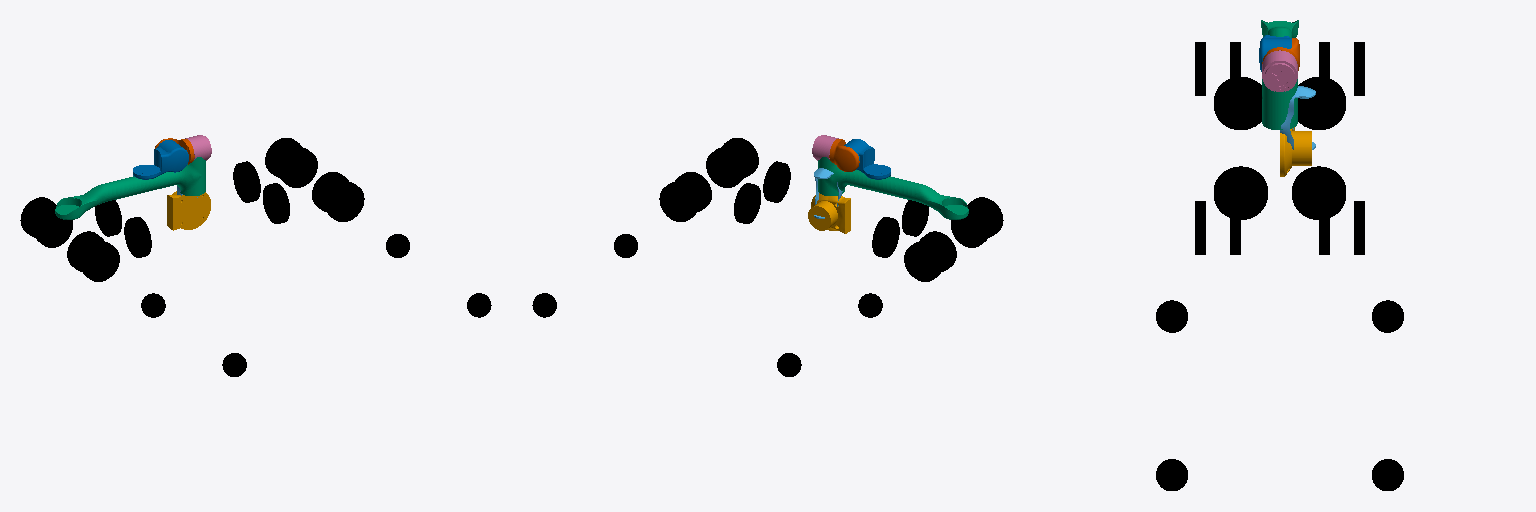
--- What the picture shows (computed from the rendered views, not written in the file) ---
3 views of the same robot in one strip: view 1: azimuth 30°, elevation 25°; view 2: azimuth 150°, elevation 25°; view 3: azimuth 270°, elevation 25° (orthographic).
Model b1z1_description with 39 links and 38 joints (18 revolute, 19 fixed, 1 floating), rooted at world, posed all joints at 0 but 4 set to mid-range because 0 is outside their limits (FR_calf_joint = -1.6, FL_calf_joint = -1.6, RR_calf_joint = -1.6, RL_calf_joint = -1.6).
Links seen in each view (by area): view 1: link02, link00, link04, FR_calf_rotor, FL_thigh_rotor, RR_calf_rotor, RL_thigh_rotor, FL_hip_rotor, RR_hip_rotor, FR_hip_rotor, RL_hip_rotor, RR_thigh_rotor (+3 smaller); view 2: link02, link00, FR_thigh_rotor, FL_calf_rotor, RL_calf_rotor, RR_thigh_rotor, FR_hip_rotor, RL_hip_rotor, FL_hip_rotor, link04, RR_hip_rotor, link05 (+4 smaller); view 3: RR_hip_rotor, FR_hip_rotor, FL_hip_rotor, RL_hip_rotor, link02, link06, link00, RR_foot, RL_foot, FR_foot, FL_foot, FR_thigh_rotor (+6 smaller).
Boxes of the visible links, left/top/right/bottom form: link02: left=55, top=157, right=205, bottom=219; link00: left=167, top=191, right=210, bottom=230; link04: left=133, top=140, right=188, bottom=179; FR_calf_rotor: left=325, top=181, right=364, bottom=221; FL_thigh_rotor: left=278, top=147, right=317, bottom=187; RR_calf_rotor: left=81, top=241, right=119, bottom=281; RL_thigh_rotor: left=34, top=207, right=72, bottom=247; FL_hip_rotor: left=233, top=161, right=260, bottom=202; RR_hip_rotor: left=124, top=217, right=151, bottom=257; FR_hip_rotor: left=263, top=183, right=289, bottom=223; RL_hip_rotor: left=95, top=200, right=121, bottom=236; RR_thigh_rotor: left=67, top=231, right=103, bottom=271; link02: left=818, top=157, right=968, bottom=219; link00: left=808, top=193, right=850, bottom=233; FR_thigh_rotor: left=706, top=147, right=745, bottom=187; FL_calf_rotor: left=659, top=181, right=698, bottom=221; RL_calf_rotor: left=904, top=241, right=942, bottom=281; RR_thigh_rotor: left=951, top=207, right=989, bottom=247; FR_hip_rotor: left=763, top=161, right=790, bottom=202; RL_hip_rotor: left=872, top=217, right=899, bottom=257; FL_hip_rotor: left=734, top=183, right=760, bottom=223; link04: left=844, top=139, right=890, bottom=179; RR_hip_rotor: left=902, top=200, right=928, bottom=236; link05: left=829, top=139, right=859, bottom=171; RR_hip_rotor: left=1214, top=77, right=1261, bottom=129; FR_hip_rotor: left=1214, top=166, right=1267, bottom=219; FL_hip_rotor: left=1292, top=166, right=1345, bottom=219; RL_hip_rotor: left=1298, top=77, right=1345, bottom=129; link02: left=1261, top=20, right=1298, bottom=129; link06: left=1262, top=50, right=1297, bottom=91; link00: left=1280, top=127, right=1311, bottom=176; RR_foot: left=1156, top=300, right=1187, bottom=332; RL_foot: left=1372, top=300, right=1403, bottom=332; FR_foot: left=1156, top=459, right=1187, bottom=490; FL_foot: left=1372, top=459, right=1403, bottom=490; FR_thigh_rotor: left=1230, top=201, right=1240, bottom=254.
Bounding box of the posed robot: 1.12 × 0.4575 × 0.5628 m (x, y, z).
6 mesh visuals loaded from 12 distinct referenced files (6 binary STL); not drawn: 14 (reference not matched to a file when rendering).

robot.urdf — b1z1_description:
<?xml version="1.0" encoding="utf-8"?>
<!-- =================================================================================== -->
<!-- |    This document was autogenerated by xacro from b1_box_collide.xacro           | -->
<!-- |    EDITING THIS FILE BY HAND IS NOT RECOMMENDED                                 | -->
<!-- =================================================================================== -->
<robot name="b1z1_description">

  <mujoco>
    <compiler 
    meshdir="../meshes/"
    discardvisual="false"
  />
  </mujoco>
  <link name="world"/>
  <joint name="floating_base" type="floating">
    <origin rpy="0 0 0" xyz="0 0 0"/>
    <parent link="world"/>
    <child link="base"/>
  </joint>
    <material name="black">
    <color rgba="0.0 0.0 0.0 1.0"/>
  </material>
  <material name="blue">
    <color rgba="0.0 0.0 0.8 1.0"/>
  </material>
  <material name="green">
    <color rgba="0.0 0.8 0.0 1.0"/>
  </material>
  <material name="grey">
    <color rgba="0.7 0.7 0.7 1.0"/>
  </material>
  <material name="silver">
    <color rgba="0.913725490196 0.913725490196 0.847058823529 1.0"/>
  </material>
  <material name="orange">
    <color rgba="1.0 0.423529411765 0.0392156862745 1.0"/>
  </material>
  <material name="brown">
    <color rgba="0.870588235294 0.811764705882 0.764705882353 1.0"/>
  </material>
  <material name="red">
    <color rgba="0.8 0.0 0.0 1.0"/>
  </material>
  <material name="white">
    <color rgba="1.0 1.0 1.0 1.0"/>
  </material>

  <link name="base">
      <visual>
        <origin rpy="0 0 0" xyz="0 0 0"/>
        <geometry>
          <box size="0.001 0.001 0.001"/>
        </geometry>
      </visual>
    </link>
    
    <joint name="floating_base" type="fixed">
      <origin rpy="0 0 0" xyz="0 0 0"/>
      <parent link="base"/>
      <child link="trunk"/>
    </joint>

  <link name="trunk">
    <visual>
      <origin rpy="0 0 0" xyz="0 0 0"/>
      <geometry>
        <mesh filename="../meshes/trunk.stl" scale="1 1 1"/>
      </geometry>
      <material name="silver"/>
    </visual>
    <collision>
      <origin rpy="0 0 0" xyz="0 0 0"/>
      <geometry>
        <box size="0.7 0.15 0.22"/>
      </geometry>
    </collision>
    <inertial>
      <origin rpy="0 0 0" xyz="0.008987 0.002243 0.003013"/>
      <mass value="25"/>
      <inertia ixx="0.183142146" ixy="-0.001379002" ixz="-0.027956055" iyy="0.756327752" iyz="0.000193774" izz="0.783777558"/>
    </inertial>
  </link>
  
  <joint name="imu_joint" type="fixed">
    <parent link="trunk"/>
    <child link="imu_link"/>
    <origin rpy="0 0 0" xyz="0 0 0"/>
  </joint>
  
  <link name="imu_link">
    <inertial>
      <mass value="0.001"/>
      <origin rpy="0 0 0" xyz="0 0 0"/>
      <inertia ixx="0.0001" ixy="0" ixz="0" iyy="0.0001" iyz="0" izz="0.0001"/>
    </inertial>
    <visual>
      <origin rpy="0 0 0" xyz="0 0 0"/>
      <geometry>
        <box size="0.001 0.001 0.001"/>
      </geometry>
      <material name="red"/>
    </visual>
    <!-- <collision>
      <origin rpy="0 0 0" xyz="0 0 0"/>
      <geometry>
        <box size=".001 .001 .001"/>
      </geometry>
    </collision> -->
  </link>

  <joint name="FR_hip_joint" type="revolute">
    <origin rpy="0 0 0" xyz="0.3455 -0.072 0"/>
    <parent link="trunk"/>
    <child link="FR_hip"/>
    <axis xyz="1 0 0"/>
    <dynamics damping="0" friction="0"/>
    <limit effort="91.0035" lower="-0.75" upper="0.75" velocity="19.69"/>
  </joint>

  <joint name="FR_hip_rotor_joint" type="fixed">
    <origin rpy="0 0 0" xyz="0.1955 -0.072 0"/>
    <parent link="trunk"/>
    <child link="FR_hip_rotor"/>
  </joint>

  <link name="FR_hip">
    <visual>
      <origin rpy="3.14159265359 0 0" xyz="0 0 0"/>
      <geometry>
        <mesh filename="../meshes/hip.stl" scale="1 1 1"/>
      </geometry>
      <material name="silver"/>
    </visual>
    <!-- <collision>
      <origin rpy="1.57079632679 0 0" xyz="0 -0.08 0"/>
      <geometry>
        <cylinder length="0.04" radius="0.085"/>
      </geometry>
    </collision> -->
    <inertial>
      <origin rpy="0 0 0" xyz="-0.020298 -0.009758 0.000109"/>
      <mass value="2.1"/>
      <inertia ixx="0.00406608" ixy="0.000288071" ixz="-4.371e-06" iyy="0.008775259" iyz="-1.811e-06" izz="0.006060348"/>
    </inertial>
  </link>

  <link name="FR_hip_rotor">
    <visual>
      <origin rpy="0 1.57079632679 0" xyz="0 0 0"/>
      <geometry>
        <cylinder length="0.02" radius="0.05"/>
      </geometry>
      <material name="black"/>
    </visual>
    <!-- <collision>
      <origin rpy="0 1.57079632679 0" xyz="0 0 0"/>
      <geometry>
        <cylinder length="0.02" radius="0.05"/>
      </geometry>
    </collision> -->
    <inertial>
      <origin rpy="0 0 0" xyz="0.0 0.0 0.0"/>
      <mass value="0.199"/>
      <inertia ixx="0.00039249" ixy="0.0" ixz="0.0" iyy="0.000219397" iyz="0.0" izz="0.000219397"/>
    </inertial>
  </link>

  <joint name="FR_thigh_joint" type="revolute">
    <origin rpy="0 0 0" xyz="0 -0.12675 0"/>
    <parent link="FR_hip"/>
    <child link="FR_thigh"/>
    <axis xyz="0 1 0"/>
    <dynamics damping="0" friction="0"/>
    <limit effort="93.33" lower="-1.0" upper="3.5" velocity="23.32"/>
  </joint>

  <joint name="FR_thigh_rotor_joint" type="fixed">
    <origin rpy="0 0 0" xyz="0.0 -0.00935 0"/>
    <parent link="FR_hip"/>
    <child link="FR_thigh_rotor"/>
  </joint>

  <link name="FR_thigh">
    <visual>
      <origin rpy="0 0 0" xyz="0 0 0"/>
      <geometry>
        <mesh filename="../meshes/thigh_mirror.stl" scale="1 1 1"/>
      </geometry>
      <material name="silver"/>
    </visual>
    <collision>
      <origin rpy="0 1.57079632679 0" xyz="0 0 -0.175"/>
      <geometry>
        <box size="0.35 0.05 0.08"/>
      </geometry>
    </collision>
    <inertial>
      <origin rpy="0 0 0" xyz="-0.000235 0.028704 -0.054169"/>
      <mass value="3.934"/>
      <inertia ixx="0.044459086" ixy="-0.000128738" ixz="-0.002343913" iyy="0.046023457" iyz="-0.006032996" izz="0.008696078"/>
    </inertial>
  </link>

  <link name="FR_thigh_rotor">
    <visual>
      <origin rpy="1.57079632679 0 0" xyz="0 0 0"/>
      <geometry>
        <cylinder length="0.02" radius="0.05"/>
      </geometry>
      <material name="black"/>
    </visual>
    <!-- <collision>
      <origin rpy="1.57079632679 0 0" xyz="0 0 0"/>
      <geometry>
        <cylinder length="0.02" radius="0.05"/>
      </geometry>
    </collision> -->
    <inertial>
      <origin rpy="0 0 0" xyz="0.0 0.0 0.0"/>
      <mass value="0.266"/>
      <inertia ixx="0.000485657" ixy="0.0" ixz="0.0" iyy="0.00091885" iyz="0.0" izz="0.000485657"/>
    </inertial>
  </link>

  <joint name="FR_calf_joint" type="revolute">
    <origin rpy="0 0 0" xyz="0 0 -0.35"/>
    <parent link="FR_thigh"/>
    <child link="FR_calf"/>
    <axis xyz="0 1 0"/>
    <dynamics damping="0" friction="0"/>
    <limit effort="140" lower="-2.6" upper="-0.6" velocity="15.55"/>
  </joint>

  <joint name="FR_calf_rotor_joint" type="fixed">
    <origin rpy="0 0 0" xyz="0.0 0.0519 0"/>
    <parent link="FR_thigh"/>
    <child link="FR_calf_rotor"/>
  </joint>

  <link name="FR_calf">
    <visual>
      <origin rpy="0 0 0" xyz="0 0 0"/>
      <geometry>
        <mesh filename="../meshes/calf.stl" scale="1 1 1"/>
      </geometry>
      <material name="black"/>
    </visual>
    <collision>
      <origin rpy="0 1.57079632679 0" xyz="0 0 -0.175"/>
      <geometry>
        <box size="0.35 0.04 0.05"/>
      </geometry>
    </collision>
    <inertial>
      <origin rpy="0 0 0" xyz="0.005237 0.0 -0.202805"/>
      <mass value="0.857"/>
      <inertia ixx="0.015011003" ixy="5.2e-08" ixz="0.000250042" iyy="0.015159462" iyz="4.61e-07" izz="0.000375749"/>
    </inertial>
  </link>

  <link name="FR_calf_rotor">
    <visual>
      <origin rpy="1.57079632679 0 0" xyz="0 0 0"/>
      <geometry>
        <cylinder length="0.02" radius="0.05"/>
      </geometry>
      <material name="black"/>
    </visual>
    <!-- <collision>
      <origin rpy="1.57079632679 0 0" xyz="0 0 0"/>
      <geometry>
        <cylinder length="0.02" radius="0.05"/>
      </geometry>
    </collision> -->
    <inertial>
      <origin rpy="0 0 0" xyz="0.0 0.0 0.0"/>
      <mass value="0.266"/>
      <inertia ixx="0.000485657" ixy="0.0" ixz="0.0" iyy="0.00091885" iyz="0.0" izz="0.000485657"/>
    </inertial>
  </link>

  <joint name="FR_foot_fixed" type="fixed" dont_collapse="true">
    <origin rpy="0 0 0" xyz="0 0 -0.35"/>
    <parent link="FR_calf"/>
    <child link="FR_foot"/>
  </joint>

  <link name="FR_foot">
    <visual>
      <origin rpy="0 0 0" xyz="0 0 0"/>
      <geometry>
        <sphere radius="0.03"/>
      </geometry>
      <material name="black"/>
    </visual>
    <collision>
      <origin rpy="0 0 0" xyz="0 0 0"/>
      <geometry>
        <sphere radius="0.04"/>
      </geometry>
    </collision>
    <inertial>
      <mass value="0.05"/>
      <inertia ixx="3.2e-05" ixy="0.0" ixz="0.0" iyy="3.2e-05" iyz="0.0" izz="3.2e-05"/>
    </inertial>
    <contact>
      <lateral_friction value="1.0"/>
      <restitution value="0.5"/>
    </contact>
  </link>

  <joint name="FL_hip_joint" type="revolute">
    <origin rpy="0 0 0" xyz="0.3455 0.072 0"/>
    <parent link="trunk"/>
    <child link="FL_hip"/>
    <axis xyz="1 0 0"/>
    <dynamics damping="0" friction="0"/>
    <limit effort="91.0035" lower="-0.75" upper="0.75" velocity="19.69"/>
  </joint>

  <joint name="FL_hip_rotor_joint" type="fixed">
    <origin rpy="0 0 0" xyz="0.1955 0.072 0"/>
    <parent link="trunk"/>
    <child link="FL_hip_rotor"/>
  </joint>

  <link name="FL_hip">
    <visual>
      <origin rpy="0 0 0" xyz="0 0 0"/>
      <geometry>
        <mesh filename="../meshes/hip.stl" scale="1 1 1"/>
      </geometry>
      <material name="silver"/>
    </visual>
    <!-- <collision>
      <origin rpy="1.57079632679 0 0" xyz="0 0.08 0"/>
      <geometry>
        <cylinder length="0.04" radius="0.085"/>
      </geometry>
    </collision> -->
    <inertial>
      <origin rpy="0 0 0" xyz="-0.020298 0.009758 0.000109"/>
      <mass value="2.1"/>
      <inertia ixx="0.00406608" ixy="-0.000288071" ixz="-4.371e-06" iyy="0.008775259" iyz="1.811e-06" izz="0.006060348"/>
    </inertial>
  </link>

  <link name="FL_hip_rotor">
    <visual>
      <origin rpy="0 1.57079632679 0" xyz="0 0 0"/>
      <geometry>
        <cylinder length="0.02" radius="0.05"/>
      </geometry>
      <material name="black"/>
    </visual>
    <!-- <collision>
      <origin rpy="0 1.57079632679 0" xyz="0 0 0"/>
      <geometry>
        <cylinder length="0.02" radius="0.05"/>
      </geometry>
    </collision> -->
    <inertial>
      <origin rpy="0 0 0" xyz="0.0 0.0 0.0"/>
      <mass value="0.199"/>
      <inertia ixx="0.00039249" ixy="0.0" ixz="0.0" iyy="0.000219397" iyz="0.0" izz="0.000219397"/>
    </inertial>
  </link>

  <joint name="FL_thigh_joint" type="revolute">
    <origin rpy="0 0 0" xyz="0 0.12675 0"/>
    <parent link="FL_hip"/>
    <child link="FL_thigh"/>
    <axis xyz="0 1 0"/>
    <dynamics damping="0" friction="0"/>
    <limit effort="93.33" lower="-1.0" upper="3.5" velocity="23.32"/>
  </joint>

  <joint name="FL_thigh_rotor_joint" type="fixed">
    <origin rpy="0 0 0" xyz="0.0 0.00935 0"/>
    <parent link="FL_hip"/>
    <child link="FL_thigh_rotor"/>
  </joint>

  <link name="FL_thigh">
    <visual>
      <origin rpy="0 0 0" xyz="0 0 0"/>
      <geometry>
        <mesh filename="../meshes/thigh.stl" scale="1 1 1"/>
      </geometry>
      <material name="silver"/>
    </visual>
    <collision>
      <origin rpy="0 1.57079632679 0" xyz="0 0 -0.175"/>
      <geometry>
        <box size="0.35 0.05 0.08"/>
      </geometry>
    </collision>
    <inertial>
      <origin rpy="0 0 0" xyz="-0.000235 -0.028704 -0.054169"/>
      <mass value="3.934"/>
      <inertia ixx="0.044459086" ixy="0.000128738" ixz="-0.002343913" iyy="0.046023457" iyz="0.006032996" izz="0.008696078"/>
    </inertial>
  </link>

  <link name="FL_thigh_rotor">
    <visual>
      <origin rpy="1.57079632679 0 0" xyz="0 0 0"/>
      <geometry>
        <cylinder length="0.02" radius="0.05"/>
      </geometry>
      <material name="black"/>
    </visual>
    <!-- <collision>
      <origin rpy="1.57079632679 0 0" xyz="0 0 0"/>
      <geometry>
        <cylinder length="0.02" radius="0.05"/>
      </geometry>
    </collision> -->
    <inertial>
      <origin rpy="0 0 0" xyz="0.0 0.0 0.0"/>
      <mass value="0.266"/>
      <inertia ixx="0.000485657" ixy="0.0" ixz="0.0" iyy="0.00091885" iyz="0.0" izz="0.000485657"/>
    </inertial>
  </link>

  <joint name="FL_calf_joint" type="revolute">
    <origin rpy="0 0 0" xyz="0 0 -0.35"/>
    <parent link="FL_thigh"/>
    <child link="FL_calf"/>
    <axis xyz="0 1 0"/>
    <dynamics damping="0" friction="0"/>
    <limit effort="140" lower="-2.6" upper="-0.6" velocity="15.55"/>
  </joint>

  <joint name="FL_calf_rotor_joint" type="fixed">
    <origin rpy="0 0 0" xyz="0.0 -0.0519 0"/>
    <parent link="FL_thigh"/>
    <child link="FL_calf_rotor"/>
  </joint>

  <link name="FL_calf">
    <visual>
      <origin rpy="0 0 0" xyz="0 0 0"/>
      <geometry>
        <mesh filename="../meshes/calf.stl" scale="1 1 1"/>
      </geometry>
      <material name="black"/>
    </visual>
    <collision>
      <origin rpy="0 1.57079632679 0" xyz="0 0 -0.175"/>
      <geometry>
        <box size="0.35 0.04 0.05"/>
      </geometry>
    </collision>
    <inertial>
      <origin rpy="0 0 0" xyz="0.005237 0.0 -0.202805"/>
      <mass value="0.857"/>
      <inertia ixx="0.015011003" ixy="5.2e-08" ixz="0.000250042" iyy="0.015159462" iyz="4.61e-07" izz="0.000375749"/>
    </inertial>
  </link>

  <link name="FL_calf_rotor">
    <visual>
      <origin rpy="1.57079632679 0 0" xyz="0 0 0"/>
      <geometry>
        <cylinder length="0.02" radius="0.05"/>
      </geometry>
      <material name="black"/>
    </visual>
    <!-- <collision>
      <origin rpy="1.57079632679 0 0" xyz="0 0 0"/>
      <geometry>
        <cylinder length="0.02" radius="0.05"/>
      </geometry>
    </collision> -->
    <inertial>
      <origin rpy="0 0 0" xyz="0.0 0.0 0.0"/>
      <mass value="0.266"/>
      <inertia ixx="0.000485657" ixy="0.0" ixz="0.0" iyy="0.00091885" iyz="0.0" izz="0.000485657"/>
    </inertial>
  </link>

  <joint name="FL_foot_fixed" type="fixed" dont_collapse="true">
    <origin rpy="0 0 0" xyz="0 0 -0.35"/>
    <parent link="FL_calf"/>
    <child link="FL_foot"/>
  </joint>

  <link name="FL_foot">
    <visual>
      <origin rpy="0 0 0" xyz="0 0 0"/>
      <geometry>
        <sphere radius="0.03"/>
      </geometry>
      <material name="black"/>
    </visual>
    <collision>
      <origin rpy="0 0 0" xyz="0 0 0"/>
      <geometry>
        <sphere radius="0.04"/>
      </geometry>
    </collision>
    <inertial>
      <mass value="0.05"/>
      <inertia ixx="3.2e-05" ixy="0.0" ixz="0.0" iyy="3.2e-05" iyz="0.0" izz="3.2e-05"/>
    </inertial>
    <contact>
      <lateral_friction value="1.0"/>
      <restitution value="0.5"/>
    </contact>
  </link>

  <joint name="RR_hip_joint" type="revolute">
    <origin rpy="0 0 0" xyz="-0.3455 -0.072 0"/>
    <parent link="trunk"/>
    <child link="RR_hip"/>
    <axis xyz="1 0 0"/>
    <dynamics damping="0" friction="0"/>
    <limit effort="91.0035" lower="-0.75" upper="0.75" velocity="19.69"/>
  </joint>

  <joint name="RR_hip_rotor_joint" type="fixed">
    <origin rpy="0 0 0" xyz="-0.1955 -0.072 0"/>
    <parent link="trunk"/>
    <child link="RR_hip_rotor"/>
  </joint>

  <link name="RR_hip">
    <visual>
      <origin rpy="3.14159265359 3.14159265359 0" xyz="0 0 0"/>
      <geometry>
        <mesh filename="../meshes/hip.stl" scale="1 1 1"/>
      </geometry>
      <material name="silver"/>
    </visual>
    <!-- <collision>
      <origin rpy="1.57079632679 0 0" xyz="0 -0.08 0"/>
      <geometry>
        <cylinder length="0.04" radius="0.085"/>
      </geometry>
    </collision> -->
    <inertial>
      <origin rpy="0 0 0" xyz="0.020298 -0.009758 0.000109"/>
      <mass value="2.1"/>
      <inertia ixx="0.00406608" ixy="-0.000288071" ixz="4.371e-06" iyy="0.008775259" iyz="-1.811e-06" izz="0.006060348"/>
    </inertial>
  </link>

  <link name="RR_hip_rotor">
    <visual>
      <origin rpy="0 1.57079632679 0" xyz="0 0 0"/>
      <geometry>
        <cylinder length="0.02" radius="0.05"/>
      </geometry>
      <material name="black"/>
    </visual>
    <!-- <collision>
      <origin rpy="0 1.57079632679 0" xyz="0 0 0"/>
      <geometry>
        <cylinder length="0.02" radius="0.05"/>
      </geometry>
    </collision> -->
    <inertial>
      <origin rpy="0 0 0" xyz="0.0 0.0 0.0"/>
      <mass value="0.199"/>
      <inertia ixx="0.00039249" ixy="0.0" ixz="0.0" iyy="0.000219397" iyz="0.0" izz="0.000219397"/>
    </inertial>
  </link>

  <joint name="RR_thigh_joint" type="revolute">
    <origin rpy="0 0 0" xyz="0 -0.12675 0"/>
    <parent link="RR_hip"/>
    <child link="RR_thigh"/>
    <axis xyz="0 1 0"/>
    <dynamics damping="0" friction="0"/>
    <limit effort="93.33" lower="-1.0" upper="3.5" velocity="23.32"/>
  </joint>

  <joint name="RR_thigh_rotor_joint" type="fixed">
    <origin rpy="0 0 0" xyz="0.0 -0.00935 0"/>
    <parent link="RR_hip"/>
    <child link="RR_thigh_rotor"/>
  </joint>

  <link name="RR_thigh">
    <visual>
      <origin rpy="0 0 0" xyz="0 0 0"/>
      <geometry>
        <mesh filename="../meshes/thigh_mirror.stl" scale="1 1 1"/>
      </geometry>
      <material name="silver"/>
    </visual>
    <collision>
      <origin rpy="0 1.57079632679 0" xyz="0 0 -0.175"/>
      <geometry>
        <box size="0.35 0.05 0.08"/>
      </geometry>
    </collision>
    <inertial>
      <origin rpy="0 0 0" xyz="-0.000235 0.028704 -0.054169"/>
      <mass value="3.934"/>
      <inertia ixx="0.044459086" ixy="-0.000128738" ixz="-0.002343913" iyy="0.046023457" iyz="-0.006032996" izz="0.008696078"/>
    </inertial>
  </link>

  <link name="RR_thigh_rotor">
    <visual>
      <origin rpy="1.57079632679 0 0" xyz="0 0 0"/>
      <geometry>
        <cylinder length="0.02" radius="0.05"/>
      </geometry>
      <material name="black"/>
    </visual>
    <!-- <collision>
      <origin rpy="1.57079632679 0 0" xyz="0 0 0"/>
      <geometry>
        <cylinder length="0.02" radius="0.05"/>
      </geometry>
    </collision> -->
    <inertial>
      <origin rpy="0 0 0" xyz="0.0 0.0 0.0"/>
      <mass value="0.266"/>
      <inertia ixx="0.000485657" ixy="0.0" ixz="0.0" iyy="0.00091885" iyz="0.0" izz="0.000485657"/>
    </inertial>
  </link>

  <joint name="RR_calf_joint" type="revolute">
    <origin rpy="0 0 0" xyz="0 0 -0.35"/>
    <parent link="RR_thigh"/>
    <child link="RR_calf"/>
    <axis xyz="0 1 0"/>
    <dynamics damping="0" friction="0"/>
    <limit effort="140" lower="-2.6" upper="-0.6" velocity="15.55"/>
  </joint>

  <joint name="RR_calf_rotor_joint" type="fixed">
    <origin rpy="0 0 0" xyz="0.0 0.0519 0"/>
    <parent link="RR_thigh"/>
    <child link="RR_calf_rotor"/>
  </joint>

  <link name="RR_calf">
    <visual>
      <origin rpy="0 0 0" xyz="0 0 0"/>
      <geometry>
        <mesh filename="../meshes/calf.stl" scale="1 1 1"/>
      </geometry>
      <material name="black"/>
    </visual>
    <collision>
      <origin rpy="0 1.57079632679 0" xyz="0 0 -0.175"/>
      <geometry>
        <box size="0.35 0.04 0.05"/>
      </geometry>
    </collision>
    <inertial>
      <origin rpy="0 0 0" xyz="0.005237 0.0 -0.202805"/>
      <mass value="0.857"/>
      <inertia ixx="0.015011003" ixy="5.2e-08" ixz="0.000250042" iyy="0.015159462" iyz="4.61e-07" izz="0.000375749"/>
    </inertial>
  </link>

  <link name="RR_calf_rotor">
    <visual>
      <origin rpy="1.57079632679 0 0" xyz="0 0 0"/>
      <geometry>
        <cylinder length="0.02" radius="0.05"/>
      </geometry>
      <material name="black"/>
    </visual>
    <!-- <collision>
      <origin rpy="1.57079632679 0 0" xyz="0 0 0"/>
      <geometry>
        <cylinder length="0.02" radius="0.05"/>
      </geometry>
    </collision> -->
    <inertial>
      <origin rpy="0 0 0" xyz="0.0 0.0 0.0"/>
      <mass value="0.266"/>
      <inertia ixx="0.000485657" ixy="0.0" ixz="0.0" iyy="0.00091885" iyz="0.0" izz="0.000485657"/>
    </inertial>
  </link>

  <joint name="RR_foot_fixed" type="fixed" dont_collapse="true">
    <origin rpy="0 0 0" xyz="0 0 -0.35"/>
    <parent link="RR_calf"/>
    <child link="RR_foot"/>
  </joint>

  <link name="RR_foot">
    <visual>
      <origin rpy="0 0 0" xyz="0 0 0"/>
      <geometry>
        <sphere radius="0.03"/>
      </geometry>
      <material name="black"/>
    </visual>
    <collision>
      <origin rpy="0 0 0" xyz="0 0 0"/>
      <geometry>
        <sphere radius="0.04"/>
      </geometry>
    </collision>
    <inertial>
      <mass value="0.05"/>
      <inertia ixx="3.2e-05" ixy="0.0" ixz="0.0" iyy="3.2e-05" iyz="0.0" izz="3.2e-05"/>
    </inertial>
    <contact>
      <lateral_friction value="1.0"/>
      <restitution value="0.5"/>
    </contact>
  </link>

  <joint name="RL_hip_joint" type="revolute">
    <origin rpy="0 0 0" xyz="-0.3455 0.072 0"/>
    <parent link="trunk"/>
    <child link="RL_hip"/>
    <axis xyz="1 0 0"/>
    <dynamics damping="0" friction="0"/>
    <limit effort="91.0035" lower="-0.75" upper="0.75" velocity="19.69"/>
  </joint>

  <joint name="RL_hip_rotor_joint" type="fixed">
    <origin rpy="0 0 0" xyz="-0.1955 0.072 0"/>
    <parent link="trunk"/>
    <child link="RL_hip_rotor"/>
  </joint>

  <link name="RL_hip">
    <visual>
      <origin rpy="0 3.14159265359 0" xyz="0 0 0"/>
      <geometry>
        <mesh filename="../meshes/hip.stl" scale="1 1 1"/>
      </geometry>
      <material name="silver"/>
    </visual>
    <!-- <collision>
      <origin rpy="1.57079632679 0 0" xyz="0 0.08 0"/>
      <geometry>
        <cylinder length="0.04" radius="0.085"/>
      </geometry>
    </collision> -->
    <inertial>
      <origin rpy="0 0 0" xyz="0.020298 0.009758 0.000109"/>
      <mass value="2.1"/>
      <inertia ixx="0.00406608" ixy="0.000288071" ixz="4.371e-06" iyy="0.008775259" iyz="1.811e-06" izz="0.006060348"/>
    </inertial>
  </link>

  <link name="RL_hip_rotor">
    <visual>
      <origin rpy="0 1.57079632679 0" xyz="0 0 0"/>
      <geometry>
        <cylinder length="0.02" radius="0.05"/>
      </geometry>
      <material name="black"/>
    </visual>
    <!-- <collision>
      <origin rpy="0 1.57079632679 0" xyz="0 0 0"/>
      <geometry>
        <cylinder length="0.02" radius="0.05"/>
      </geometry>
    </collision> -->
    <inertial>
      <origin rpy="0 0 0" xyz="0.0 0.0 0.0"/>
      <mass value="0.199"/>
      <inertia ixx="0.00039249" ixy="0.0" ixz="0.0" iyy="0.000219397" iyz="0.0" izz="0.000219397"/>
    </inertial>
  </link>

  <joint name="RL_thigh_joint" type="revolute">
    <origin rpy="0 0 0" xyz="0 0.12675 0"/>
    <parent link="RL_hip"/>
    <child link="RL_thigh"/>
    <axis xyz="0 1 0"/>
    <dynamics damping="0" friction="0"/>
    <limit effort="93.33" lower="-1.0" upper="3.5" velocity="23.32"/>
  </joint>

  <joint name="RL_thigh_rotor_joint" type="fixed">
    <origin rpy="0 0 0" xyz="0.0 0.00935 0"/>
    <parent link="RL_hip"/>
    <child link="RL_thigh_rotor"/>
  </joint>

  <link name="RL_thigh">
    <visual>
      <origin rpy="0 0 0" xyz="0 0 0"/>
      <geometry>
        <mesh filename="../meshes/thigh.stl" scale="1 1 1"/>
      </geometry>
      <material name="silver"/>
    </visual>
    <collision>
      <origin rpy="0 1.57079632679 0" xyz="0 0 -0.175"/>
      <geometry>
        <box size="0.35 0.05 0.08"/>
      </geometry>
    </collision>
    <inertial>
      <origin rpy="0 0 0" xyz="-0.000235 -0.028704 -0.054169"/>
      <mass value="3.934"/>
      <inertia ixx="0.044459086" ixy="0.000128738" ixz="-0.002343913" iyy="0.046023457" iyz="0.006032996" izz="0.008696078"/>
    </inertial>
  </link>

  <link name="RL_thigh_rotor">
    <visual>
      <origin rpy="1.57079632679 0 0" xyz="0 0 0"/>
      <geometry>
        <cylinder length="0.02" radius="0.05"/>
      </geometry>
      <material name="black"/>
    </visual>
    <!-- <collision>
      <origin rpy="1.57079632679 0 0" xyz="0 0 0"/>
      <geometry>
        <cylinder length="0.02" radius="0.05"/>
      </geometry>
    </collision> -->
    <inertial>
      <origin rpy="0 0 0" xyz="0.0 0.0 0.0"/>
      <mass value="0.266"/>
      <inertia ixx="0.000485657" ixy="0.0" ixz="0.0" iyy="0.00091885" iyz="0.0" izz="0.000485657"/>
    </inertial>
  </link>

  <joint name="RL_calf_joint" type="revolute">
    <origin rpy="0 0 0" xyz="0 0 -0.35"/>
    <parent link="RL_thigh"/>
    <child link="RL_calf"/>
    <axis xyz="0 1 0"/>
    <dynamics damping="0" friction="0"/>
    <limit effort="140" lower="-2.6" upper="-0.6" velocity="15.55"/>
  </joint>

  <joint name="RL_calf_rotor_joint" type="fixed">
    <origin rpy="0 0 0" xyz="0.0 -0.0519 0"/>
    <parent link="RL_thigh"/>
    <child link="RL_calf_rotor"/>
  </joint>

  <link name="RL_calf">
    <visual>
      <origin rpy="0 0 0" xyz="0 0 0"/>
      <geometry>
        <mesh filename="../meshes/calf.stl" scale="1 1 1"/>
      </geometry>
      <material name="black"/>
    </visual>
    <collision>
      <origin rpy="0 1.57079632679 0" xyz="0 0 -0.175"/>
      <geometry>
        <box size="0.35 0.04 0.05"/>
      </geometry>
    </collision>
    <inertial>
      <origin rpy="0 0 0" xyz="0.005237 0.0 -0.202805"/>
      <mass value="0.857"/>
      <inertia ixx="0.015011003" ixy="5.2e-08" ixz="0.000250042" iyy="0.015159462" iyz="4.61e-07" izz="0.000375749"/>
    </inertial>
  </link>
  
  <link name="RL_calf_rotor">
    <visual>
      <origin rpy="1.57079632679 0 0" xyz="0 0 0"/>
      <geometry>
        <cylinder length="0.02" radius="0.05"/>
      </geometry>
      <material name="black"/>
    </visual>
    <!-- <collision>
      <origin rpy="1.57079632679 0 0" xyz="0 0 0"/>
      <geometry>
        <cylinder length="0.02" radius="0.05"/>
      </geometry>
    </collision> -->
    <inertial>
      <origin rpy="0 0 0" xyz="0.0 0.0 0.0"/>
      <mass value="0.266"/>
      <inertia ixx="0.000485657" ixy="0.0" ixz="0.0" iyy="0.00091885" iyz="0.0" izz="0.000485657"/>
    </inertial>
  </link>

  <joint name="RL_foot_fixed" type="fixed" dont_collapse="true">
    <origin rpy="0 0 0" xyz="0 0 -0.35"/>
    <parent link="RL_calf"/>
    <child link="RL_foot"/>
  </joint>

  <link name="RL_foot">
    <visual>
      <origin rpy="0 0 0" xyz="0 0 0"/>
      <geometry>
        <sphere radius="0.03"/>
      </geometry>
      <material name="black"/>
    </visual>
    <collision>
      <origin rpy="0 0 0" xyz="0 0 0"/>
      <geometry>
        <sphere radius="0.04"/>
      </geometry>
    </collision>
    <inertial>
      <mass value="0.05"/>
      <inertia ixx="3.2e-05" ixy="0.0" ixz="0.0" iyy="3.2e-05" iyz="0.0" izz="3.2e-05"/>
    </inertial>
    <contact>
      <lateral_friction value="1.0"/>
      <restitution value="0.5"/>
    </contact>
  </link>

  <!-- <gazebo>
    <plugin filename="libgazebo_ros_control.so" name="gazebo_ros_control">
      <robotNamespace>/z1_gazebo</robotNamespace>
      <robotSimType>gazebo_ros_control/DefaultRobotHWSim</robotSimType>
    </plugin>
  </gazebo>
  <gazebo reference="link04">
    <self_collide>true</self_collide>
  </gazebo>
  <gazebo reference="link05">
    <self_collide>true</self_collide>
  </gazebo>
  <gazebo reference="link06">
    <self_collide>true</self_collide>
  </gazebo> -->
  <!-- <link name="world"/> -->
  <joint name="base_arm_joint" type="fixed">
    <origin rpy="0 0 0" xyz="0 0 0"/>
    <parent link="base"/>
    <child link="link00"/>
  </joint>
  <link name="link00">
    <visual>
      <origin rpy="0 0 0" xyz="0 0 0"/>
      <geometry>
        <mesh filename="../meshes/visual/z1_Link00.stl" scale="1 1 1"/>
      </geometry>
    </visual>
    <collision>
      <geometry>
        <cylinder length="0.051" radius="0.0325"/>
      </geometry>
      <origin rpy="0 0 0" xyz="0 0 0.0255"/>
    </collision>
    <inertial>
      <origin rpy="0 0 0" xyz="-0.00334984 -0.00013615 0.02495843"/>
      <mass value="0.47247481"/>
      <inertia ixx="0.00037937" ixy="-3.5e-07" ixz="-1.037e-05" iyy="0.00041521" iyz="-9.9e-07" izz="0.00053066"/>
    </inertial>
  </link>
  <joint name="joint1" type="revolute">
    <origin rpy="0 0 0" xyz="0 0 0.0585"/>
    <parent link="link00"/>
    <child link="link01"/>
    <axis xyz="0 0 1"/>
    <dynamics damping="1.0" friction="1.0"/>
    <limit effort="30.0" lower="-2.6179938779914944" upper="2.6179938779914944" velocity="3.1415"/>
  </joint>
  <link name="link01">
    <visual>
      <origin rpy="0 0 0" xyz="0 0 0"/>
      <geometry>
        <mesh filename="../meshes/visual/z1_Link01.stl" scale="1 1 1"/>
      </geometry>
    </visual>
    <inertial>
      <origin rpy="0 0 0" xyz="2.47e-06 -0.00025198 0.02317169"/>
      <mass value="0.67332551"/>
      <inertia ixx="0.00128328" ixy="-6e-08" ixz="-4e-07" iyy="0.00071931" iyz="5e-07" izz="0.00083936"/>
    </inertial>
  </link>
  <joint name="joint2" type="revolute">
    <origin rpy="0 0 0" xyz="0 0 0.045"/>
    <parent link="link01"/>
    <child link="link02"/>
    <axis xyz="0 1 0"/>
    <dynamics damping="2.0" friction="2.0"/>
    <limit effort="60.0" lower="0.0" upper="2.9670597283903604" velocity="3.1415"/>
  </joint>
  <link name="link02">
    <visual>
      <origin rpy="0 0 0" xyz="0 0 0"/>
      <geometry>
        <mesh filename="../meshes/visual/z1_Link02.stl" scale="1 1 1"/>
      </geometry>
    </visual>
    <collision>
      <geometry>
        <cylinder length="0.102" radius="0.0325"/>
      </geometry>
      <origin rpy="1.5707963267948966 0 0" xyz="0 0 0"/>
    </collision>
    <collision>
      <geometry>
        <cylinder length="0.235" radius="0.0225"/>
      </geometry>
      <origin rpy="0 1.5707963267948966 0" xyz="-0.16249999999999998 0 0"/>
    </collision>
    <collision>
      <geometry>
        <cylinder length="0.051" radius="0.0325"/>
      </geometry>
      <origin rpy="1.5707963267948966 0 0" xyz="-0.35 0 0"/>
    </collision>
    <inertial>
      <origin rpy="0 0 0" xyz="-0.11012601 0.00240029 0.00158266"/>
      <mass value="1.19132258"/>
      <inertia ixx="0.00102138" ixy="0.00062358" ixz="5.13e-06" iyy="0.02429457" iyz="-2.1e-06" izz="0.02466114"/>
    </inertial>
  </link>
  <joint name="joint3" type="revolute">
    <origin rpy="0 0 0" xyz="-0.35 0 0"/>
    <parent link="link02"/>
    <child link="link03"/>
    <axis xyz="0 1 0"/>
    <dynamics damping="1.0" friction="1.0"/>
    <limit effort="30.0" lower="-2.8797932657906435" upper="0.0" velocity="3.1415"/>
  </joint>
  <link name="link03">
    <visual>
      <origin rpy="0 0 0" xyz="0 0 0"/>
      <geometry>
        <mesh filename="../meshes/visual/z1_Link03.stl" scale="1 1 1"/>
      </geometry>
    </visual>
    <collision>
      <geometry>
        <cylinder length="0.116" radius="0.02"/>
      </geometry>
      <origin rpy="0 1.5707963267948966 0" xyz="0.128 0 0.055"/>
    </collision>
    <collision>
      <geometry>
        <cylinder length="0.059" radius="0.0325"/>
      </geometry>
      <origin rpy="0 1.5707963267948966 1.5707963267948966" xyz="0.2205 0 0.055"/>
    </collision>
    <inertial>
      <origin rpy="0 0 0" xyz="0.10609208 -0.00541815 0.03476383"/>
      <mass value="0.83940874"/>
      <inertia ixx="0.00108061" ixy="-8.669e-05" ixz="-0.00208102" iyy="0.00954238" iyz="-1.332e-05" izz="0.00886621"/>
    </inertial>
  </link>
  <joint name="joint4" type="revolute">
    <origin rpy="0 0 0" xyz="0.218 0 0.057"/>
    <parent link="link03"/>
    <child link="link04"/>
    <axis xyz="0 1 0"/>
    <dynamics damping="1.0" friction="1.0"/>
    <limit effort="30.0" lower="-1.5184364492350666" upper="1.5184364492350666" velocity="3.1415"/>
  </joint>
  <link name="link04">
    <visual>
      <origin rpy="0 0 0" xyz="0 0 0"/>
      <geometry>
        <mesh filename="../meshes/visual/z1_Link04.stl" scale="1 1 1"/>
      </geometry>
    </visual>
    <collision>
      <geometry>
        <cylinder length="0.067" radius="0.0325"/>
      </geometry>
      <origin rpy="0 0 0" xyz="0.072 0 0"/>
    </collision>
    <inertial>
      <origin rpy="0 0 0" xyz="0.04366681 0.00364738 -0.00170192"/>
      <mass value="0.56404563"/>
      <inertia ixx="0.00031576" ixy="8.13e-05" ixz="4.091e-05" iyy="0.00092996" iyz="-5.96e-06" izz="0.00097912"/>
    </inertial>
  </link>
  <joint name="joint5" type="revolute">
    <origin rpy="0 0 0" xyz="0.07 0.0 0.0"/>
    <parent link="link04"/>
    <child link="link05"/>
    <axis xyz="0 0 1"/>
    <dynamics damping="1.0" friction="1.0"/>
    <limit effort="30.0" lower="-1.3439035240356338" upper="1.3439035240356338" velocity="3.1415"/>
  </joint>
  <link name="link05">
    <visual>
      <origin rpy="0 0 0" xyz="0 0 0"/>
      <geometry>
        <mesh filename="../meshes/visual/z1_Link05.stl" scale="1 1 1"/>
      </geometry>
    </visual>
    <inertial>
      <origin rpy="0 0 0" xyz="0.03121533 0.0 0.00646316"/>
      <mass value="0.38938492"/>
      <inertia ixx="0.00017605" ixy="4e-07" ixz="5.689e-05" iyy="0.00055896" iyz="-1.3e-07" izz="0.0005386"/>
    </inertial>
  </link>
  <joint name="joint6" type="revolute">
    <origin rpy="0 0 0" xyz="0.0492 0.0 0.0"/>
    <parent link="link05"/>
    <child link="link06"/>
    <axis xyz="1 0 0"/>
    <dynamics damping="1.0" friction="1.0"/>
    <limit effort="30.0" lower="-2.792526803190927" upper="2.792526803190927" velocity="3.1415"/>
  </joint>
  <link name="link06">
    <visual>
      <origin rpy="0 0 0" xyz="0 0 0"/>
      <geometry>
        <mesh filename="../meshes/visual/z1_Link06.stl" scale="1 1 1"/>
      </geometry>
    </visual>
    <collision>
      <geometry>
        <cylinder length="0.051" radius="0.0325"/>
      </geometry>
      <origin rpy="0 1.5707963267948966 0" xyz="0.0255 0 0"/>
    </collision>
    <inertial>
      <origin rpy="0 0 0" xyz="0.0241569 -0.00017355 -0.00143876"/>
      <mass value="0.28875807"/>
      <inertia ixx="0.00018328" ixy="1.22e-06" ixz="5.4e-07" iyy="0.0001475" iyz="8e-08" izz="0.0001468"/>
    </inertial>
  </link>
  <!-- <transmission name="JointTrans1">
    <type>transmission_interface/SimpleTransmission</type>
    <joint name="joint1">
      <hardwareInterface>hardware_interface/EffortJointInterface</hardwareInterface>
    </joint>
    <actuator name="Actuator1">
      <hardwareInterface>hardware_interface/EffortJointInterface</hardwareInterface>
      <mechanicalReduction>1</mechanicalReduction>
    </actuator>
  </transmission>
  <transmission name="JointTrans2">
    <type>transmission_interface/SimpleTransmission</type>
    <joint name="joint2">
      <hardwareInterface>hardware_interface/EffortJointInterface</hardwareInterface>
    </joint>
    <actuator name="Actuator2">
      <hardwareInterface>hardware_interface/EffortJointInterface</hardwareInterface>
      <mechanicalReduction>1</mechanicalReduction>
    </actuator>
  </transmission>
  <transmission name="JointTrans3">
    <type>transmission_interface/SimpleTransmission</type>
    <joint name="joint3">
      <hardwareInterface>hardware_interface/EffortJointInterface</hardwareInterface>
    </joint>
    <actuator name="Actuator3">
      <hardwareInterface>hardware_interface/EffortJointInterface</hardwareInterface>
      <mechanicalReduction>1</mechanicalReduction>
    </actuator>
  </transmission>
  <transmission name="JointTrans4">
    <type>transmission_interface/SimpleTransmission</type>
    <joint name="joint4">
      <hardwareInterface>hardware_interface/EffortJointInterface</hardwareInterface>
    </joint>
    <actuator name="Actuator4">
      <hardwareInterface>hardware_interface/EffortJointInterface</hardwareInterface>
      <mechanicalReduction>1</mechanicalReduction>
    </actuator>
  </transmission>
  <transmission name="JointTrans5">
    <type>transmission_interface/SimpleTransmission</type>
    <joint name="joint5">
      <hardwareInterface>hardware_interface/EffortJointInterface</hardwareInterface>
    </joint>
    <actuator name="Actuator5">
      <hardwareInterface>hardware_interface/EffortJointInterface</hardwareInterface>
      <mechanicalReduction>1</mechanicalReduction>
    </actuator>
  </transmission>
  <transmission name="JointTrans6">
    <type>transmission_interface/SimpleTransmission</type>
    <joint name="joint6">
      <hardwareInterface>hardware_interface/EffortJointInterface</hardwareInterface>
    </joint>
    <actuator name="Actuator6">
      <hardwareInterface>hardware_interface/EffortJointInterface</hardwareInterface>
      <mechanicalReduction>1</mechanicalReduction>
    </actuator>
  </transmission> -->
</robot>
